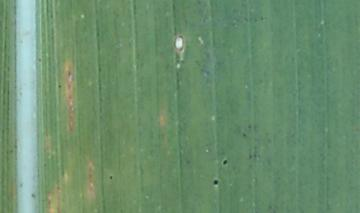tarspot: (211, 177, 221, 187), (222, 157, 230, 167), (68, 68, 72, 80), (88, 173, 93, 182), (109, 174, 114, 180), (57, 84, 62, 89)
